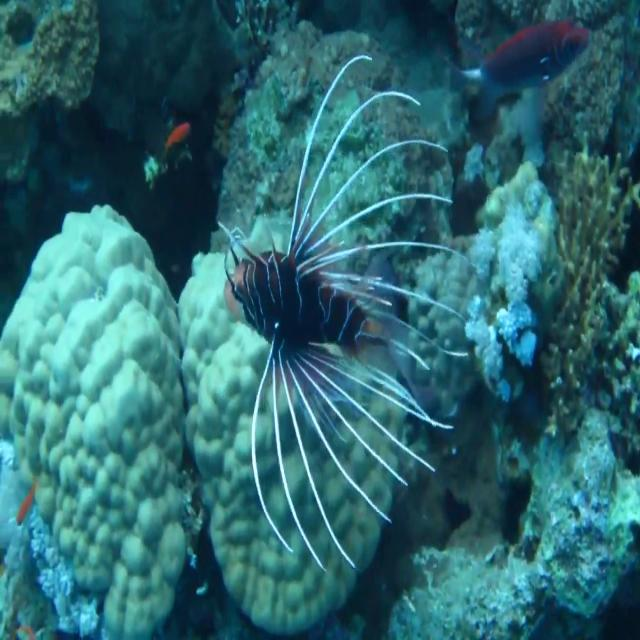Aslan Baligi: (216, 52, 474, 577)
